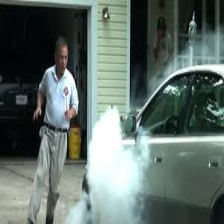smoke: (94, 124, 141, 216)
